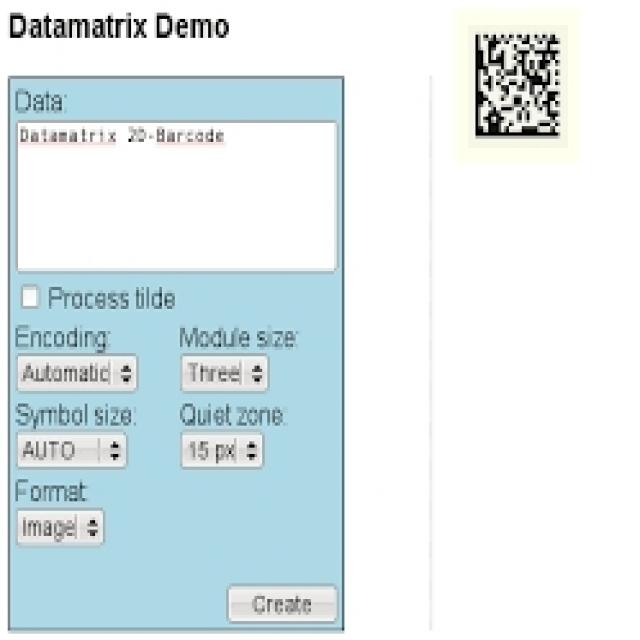DataMatrix: (468, 25, 568, 148)
